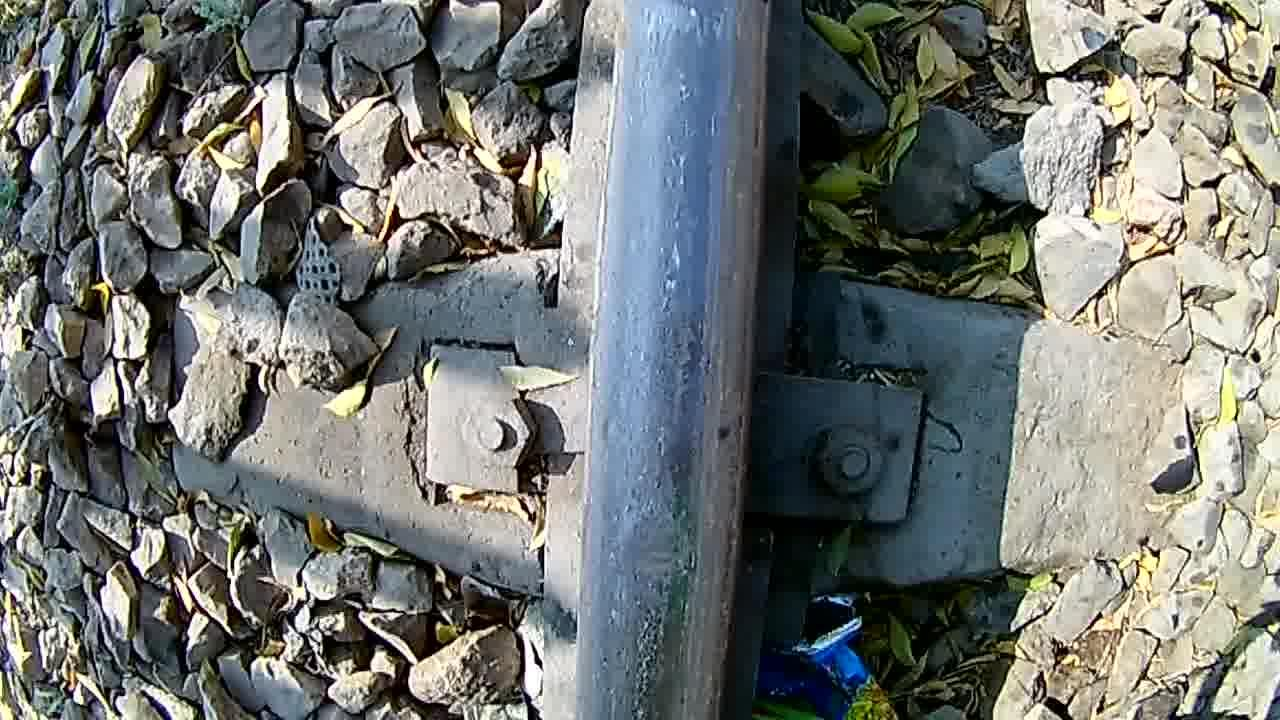bolt_missing: (590, 286, 741, 720)
